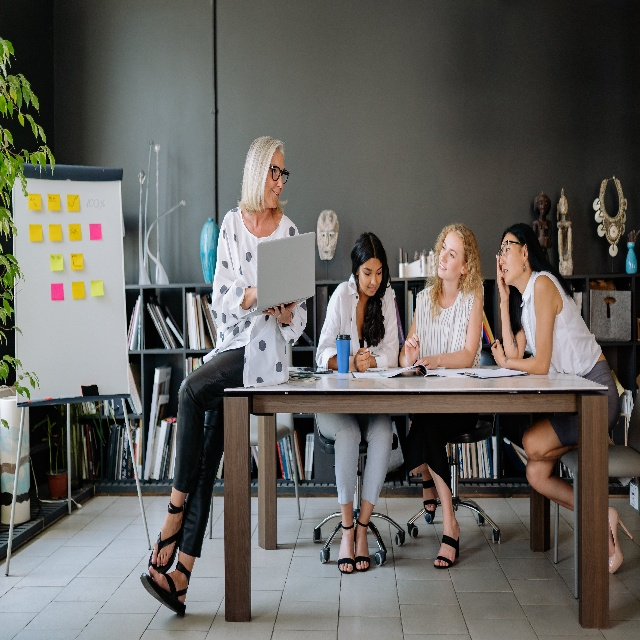Gafas: (496, 239, 527, 258), (269, 161, 290, 184)
Sin_guantes: (496, 255, 511, 301), (265, 303, 297, 323), (404, 336, 422, 364), (415, 351, 439, 370), (354, 346, 372, 370), (490, 339, 505, 366)
